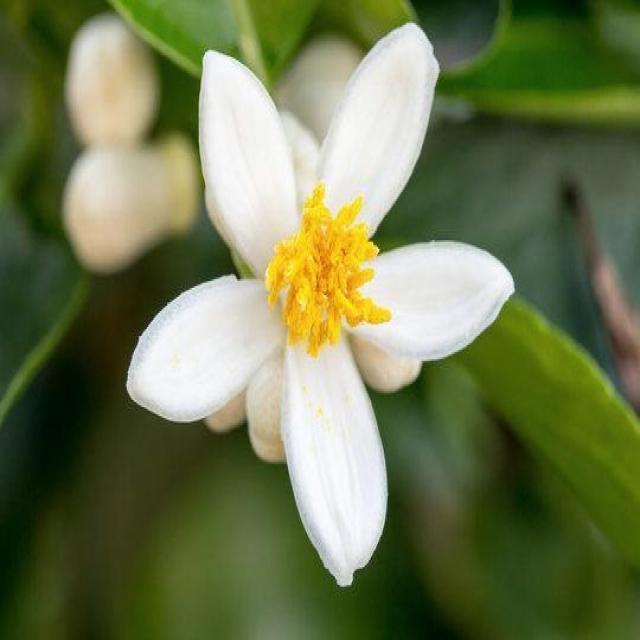Bunga: (125, 23, 520, 590), (61, 124, 202, 274), (66, 12, 162, 154), (341, 279, 427, 393), (247, 340, 310, 466), (204, 359, 287, 436)
